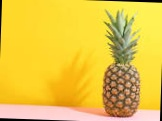Pineapple: (103, 8, 142, 117)
